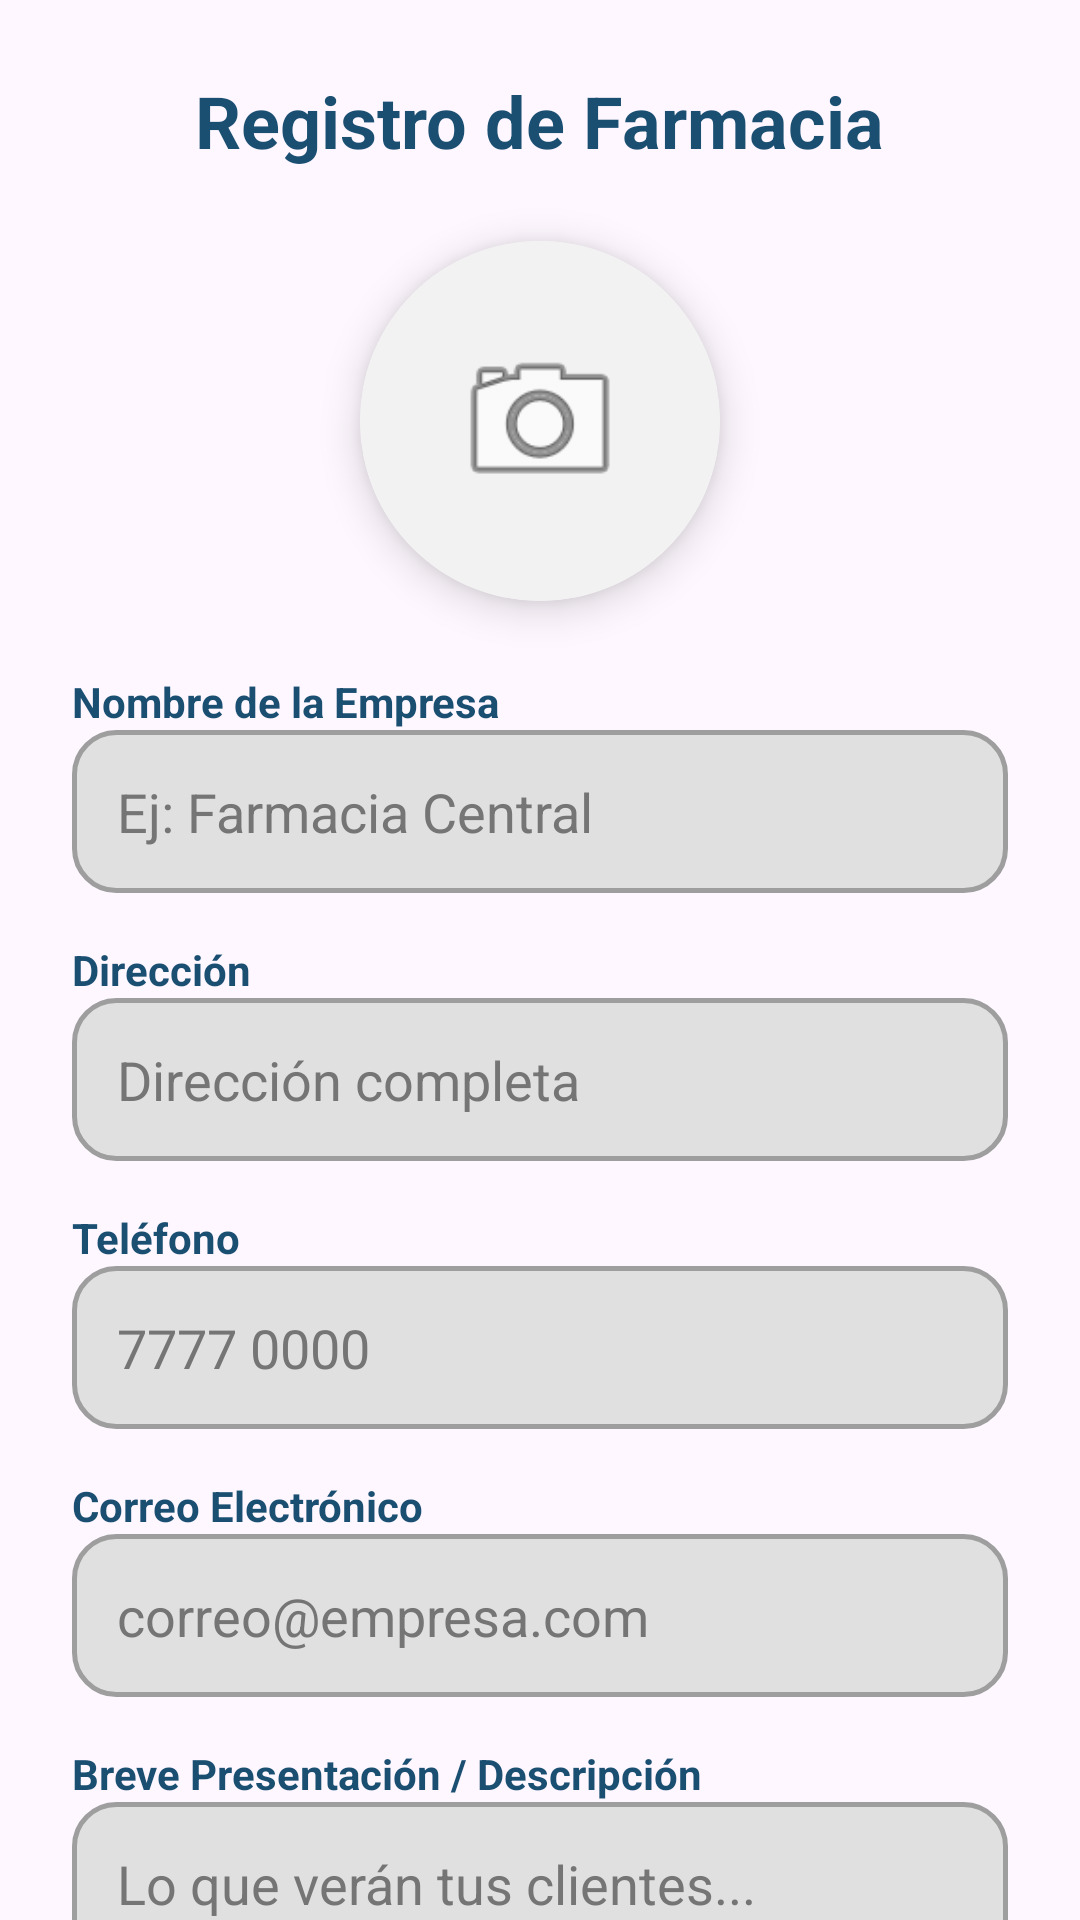

Locate icon controls on the screen. Image size 1080px×1920px, boxes as (x1, y1, x2, y2).
camera: (360, 241, 720, 601)
